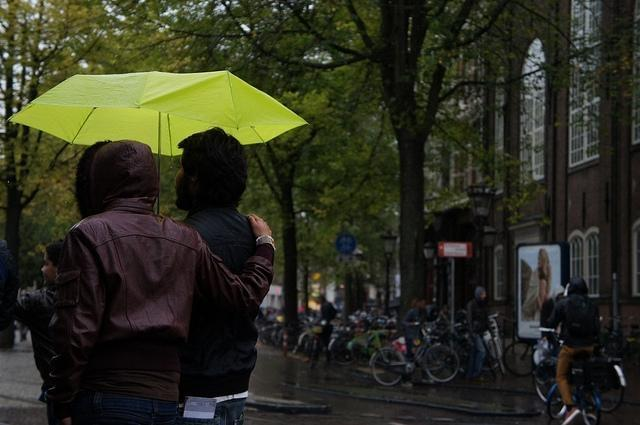bicycle: (532, 326, 628, 417), (369, 345, 458, 384), (544, 364, 604, 420), (457, 310, 509, 374), (418, 320, 470, 374), (353, 326, 404, 364), (501, 340, 537, 377), (330, 323, 360, 364), (410, 318, 442, 356), (277, 316, 316, 346), (308, 327, 326, 370), (292, 330, 313, 358), (482, 353, 498, 370)
